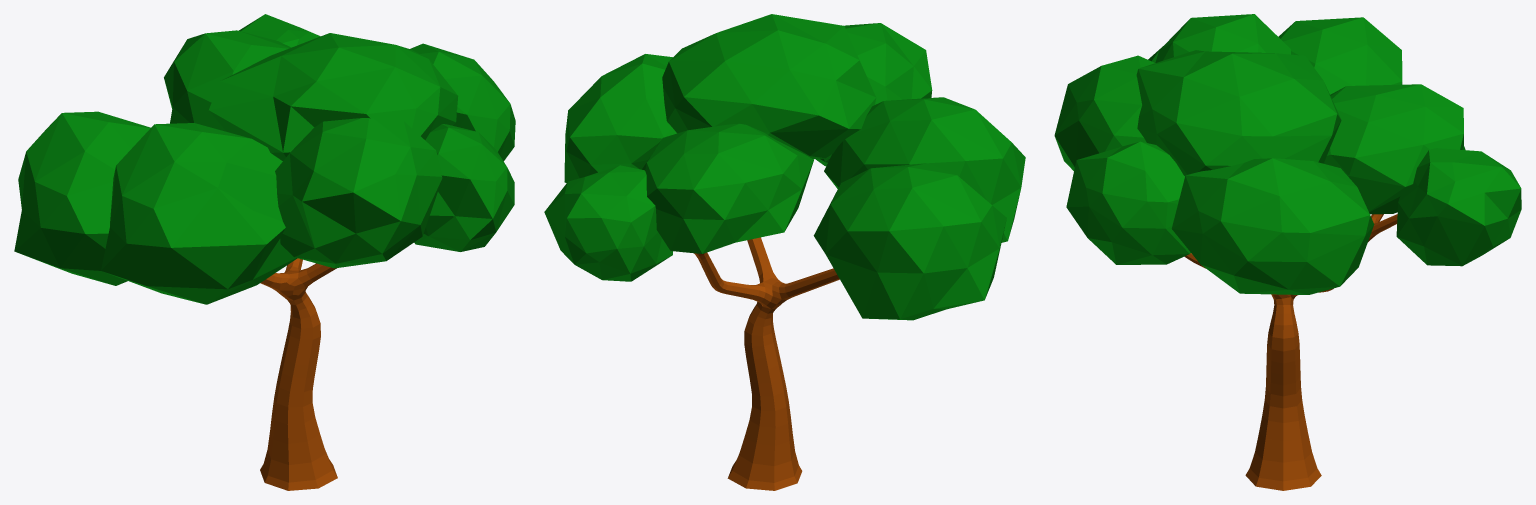
The model's file is Tree.fbx.
3 renders of one model, left to right at view 1: azimuth 30°, elevation 25°; view 2: azimuth 150°, elevation 25°; view 3: azimuth 270°, elevation 25°, orthographic. The views are drawn at different scales.
Parts seen in each view (by area): view 1: Icosphere.002, Icosphere.007, Icosphere.001, Icosphere.003, Plane, Icosphere.006, Icosphere.004, Icosphere.005, Icosphere; view 2: Icosphere.003, Icosphere.001, Icosphere.004, Icosphere.002, Plane, Icosphere, Icosphere.005, Icosphere.007; view 3: Icosphere.005, Icosphere.001, Icosphere.004, Icosphere, Icosphere.006, Plane, Icosphere.007, Icosphere.003, Icosphere.002.
Part boxes in pixels (bbox=[...]): Icosphere.002: bbox=[101, 123, 297, 304]; Icosphere.007: bbox=[275, 118, 442, 268]; Icosphere.001: bbox=[209, 33, 458, 160]; Icosphere.003: bbox=[14, 111, 150, 285]; Plane: bbox=[260, 258, 337, 490]; Icosphere.006: bbox=[414, 124, 514, 251]; Icosphere.004: bbox=[164, 30, 290, 131]; Icosphere.005: bbox=[410, 43, 515, 161]; Icosphere: bbox=[239, 14, 320, 47]; Icosphere.003: bbox=[813, 163, 1006, 320]; Icosphere.001: bbox=[662, 14, 876, 159]; Icosphere.004: bbox=[642, 123, 813, 253]; Icosphere.002: bbox=[824, 97, 1025, 242]; Plane: bbox=[694, 237, 839, 490]; Icosphere: bbox=[544, 165, 672, 281]; Icosphere.005: bbox=[564, 54, 676, 182]; Icosphere.007: bbox=[815, 23, 932, 166]; Icosphere.005: bbox=[1171, 158, 1374, 294]; Icosphere.001: bbox=[1136, 50, 1341, 175]; Icosphere.004: bbox=[1324, 84, 1465, 214]; Icosphere: bbox=[1396, 148, 1521, 266]; Icosphere.006: bbox=[1066, 141, 1190, 264]; Plane: bbox=[1184, 214, 1397, 490]; Icosphere.007: bbox=[1054, 55, 1155, 170]; Icosphere.003: bbox=[1278, 17, 1402, 94]; Icosphere.002: bbox=[1148, 14, 1290, 62].
Size of the model in its own units: 1766 by 1646 by 1622.
